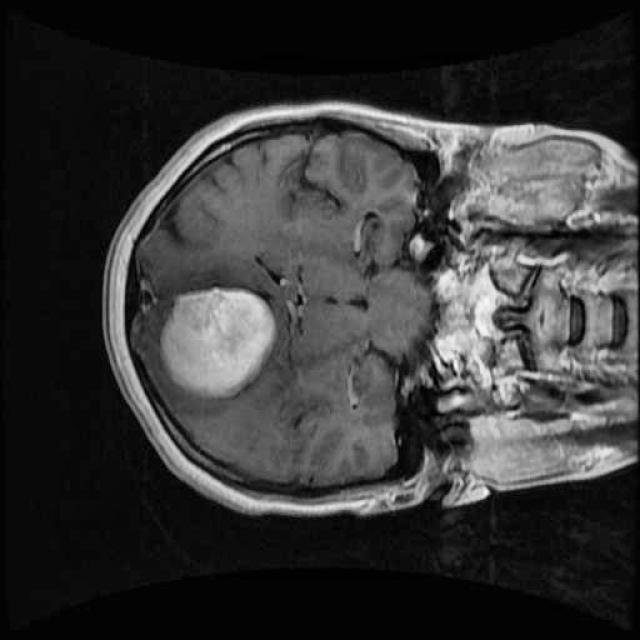Tumor: (139, 272, 296, 415)
